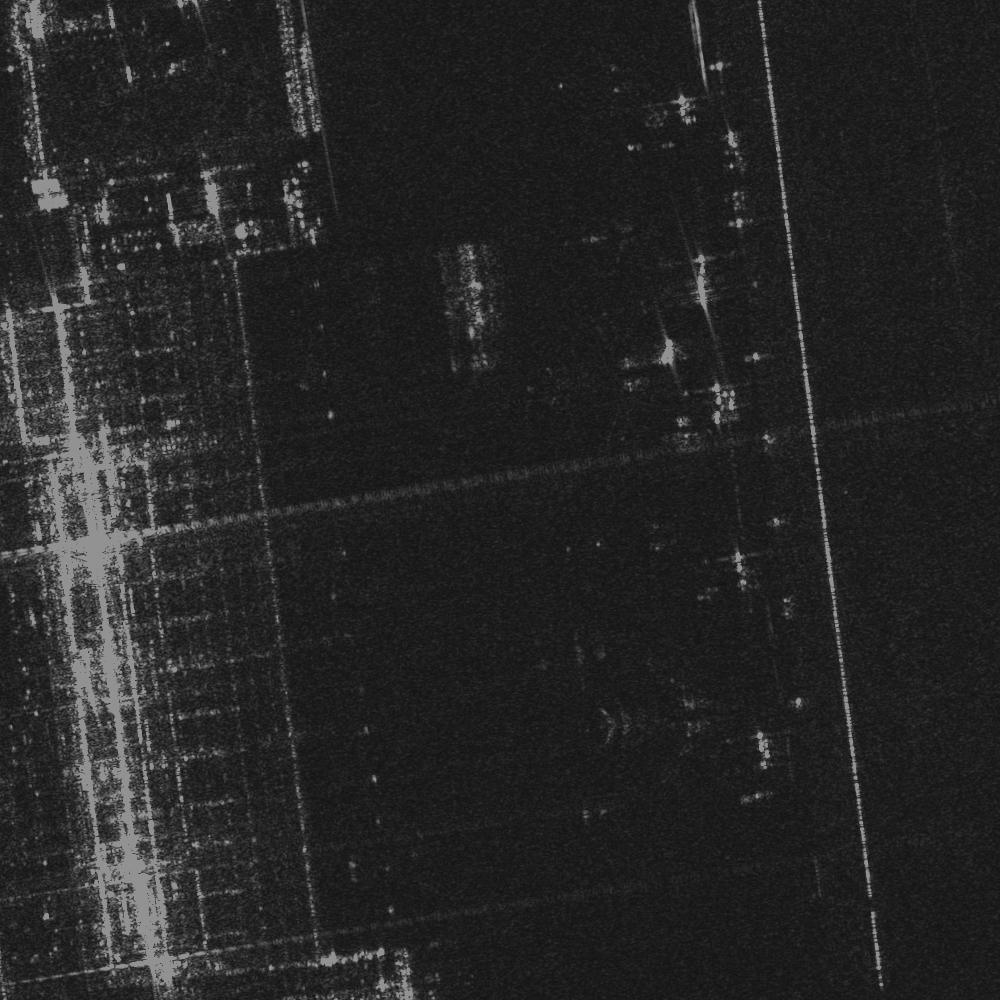A220: (562, 198, 650, 277)
A330: (545, 313, 658, 442)
Boeing787: (599, 653, 738, 782)
